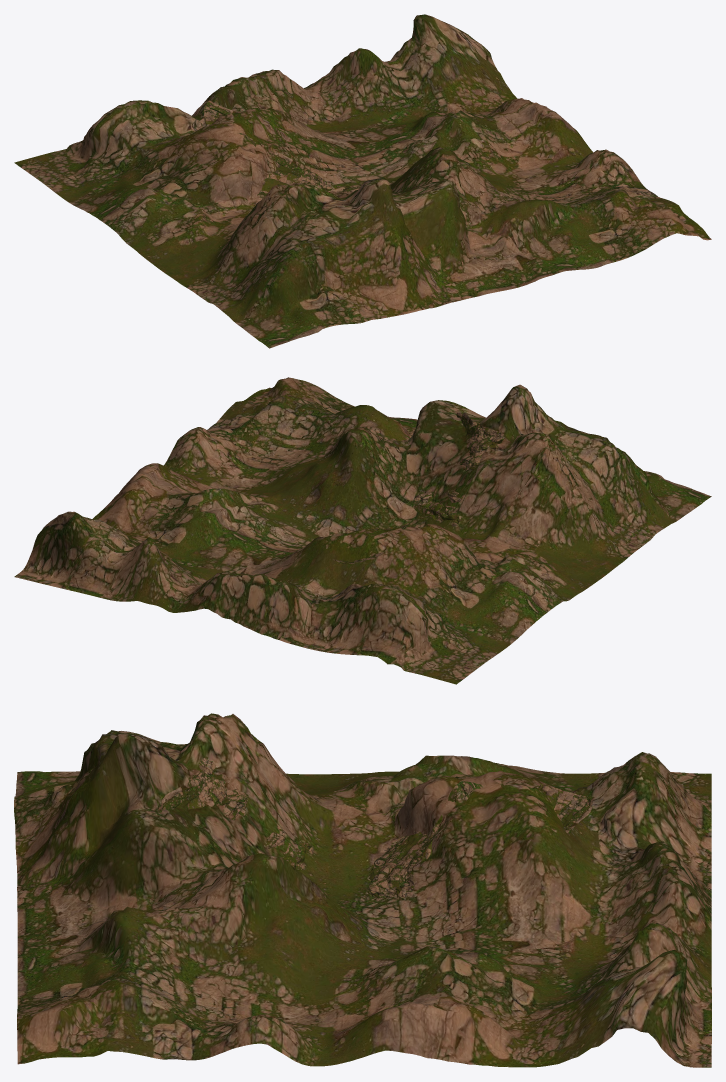
Rendered from terrain-textured-notree.glb.
The picture shows the model from 3 angles, top to bottom: view 1: azimuth 30°, elevation 25°; view 2: azimuth 150°, elevation 25°; view 3: azimuth 270°, elevation 25°; orthographic projection. The views are drawn at different scales.
Parts seen in each view (by area): view 1: pPlane1, rock_face_03; view 2: pPlane1, rock_face_02; view 3: pPlane1, rock_face_02, rock_face_03, rock_face_04.
Boxes of the visible parts, <box> form: pPlane1: <box>14,14,711,348</box>; rock_face_03: <box>257,150,333,198</box>; pPlane1: <box>14,377,711,684</box>; rock_face_02: <box>412,412,505,526</box>; pPlane1: <box>14,713,711,1067</box>; rock_face_02: <box>158,756,313,871</box>; rock_face_03: <box>364,819,446,900</box>; rock_face_04: <box>425,780,594,860</box>.
Bounding box in the file's own units: 186 × 52.25 × 186.
1 material, 1 textured.
